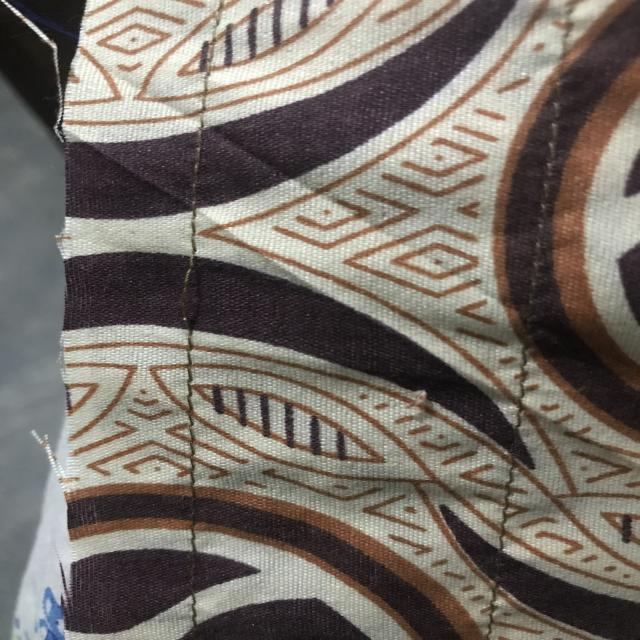good: (178, 358, 206, 474)
skip: (168, 246, 207, 336)
